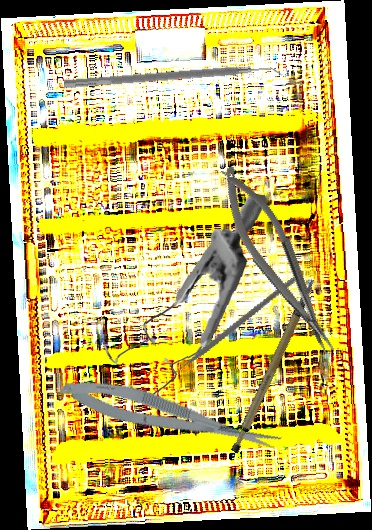Chopper: (159, 244, 298, 406)
Micro Scissor: (57, 367, 284, 467)
Needle Holder: (208, 157, 345, 366)
Scalpel Handle: (209, 278, 342, 456)
Spatula Surgical: (63, 60, 284, 99)
Speculum: (98, 184, 268, 408)
